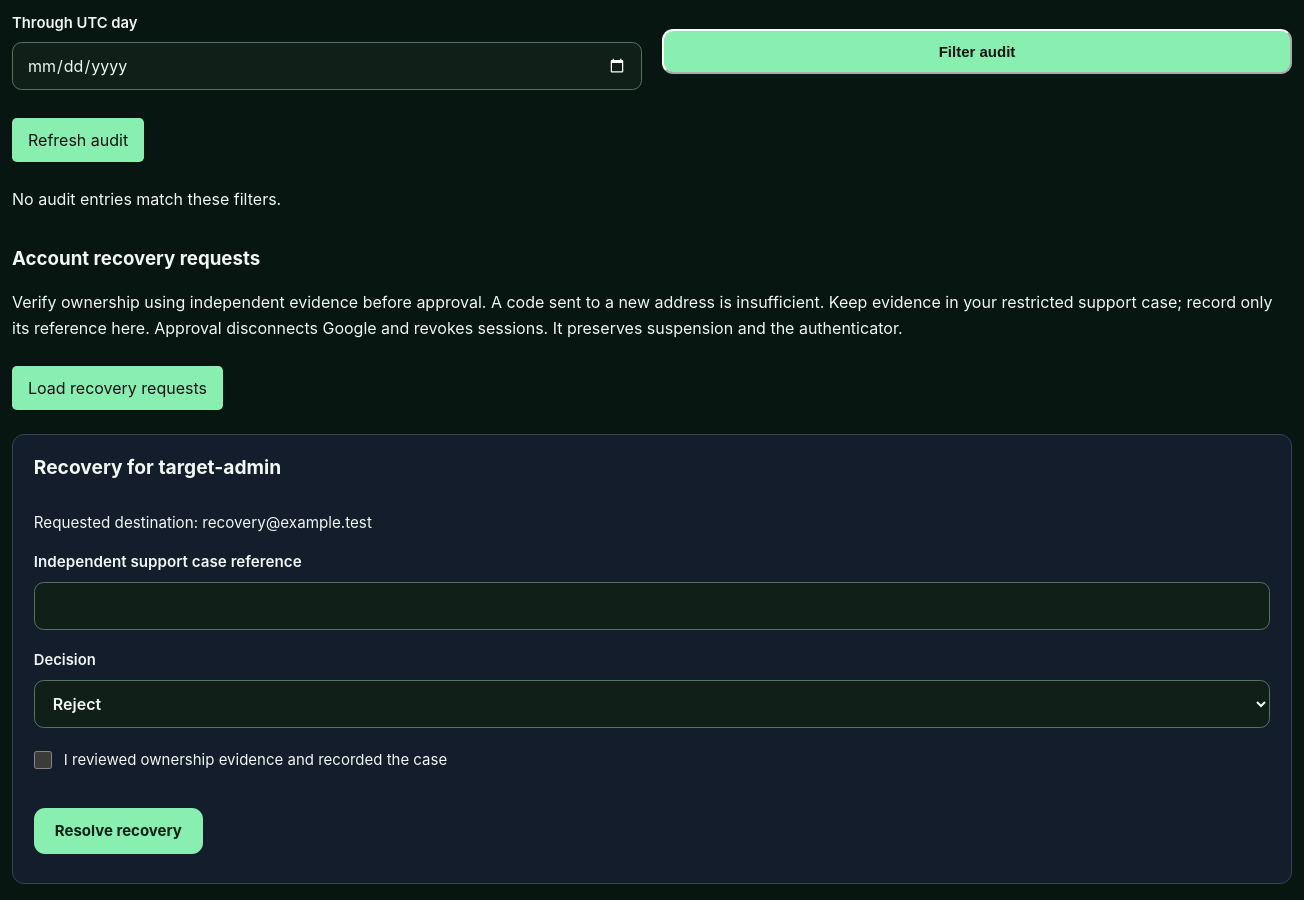
returns resolved recovery focus to its queue with persistent success when reload is empty
(page scrolled)
Expected: the text "Requested destination: recovery@example.test" is shown, x1=34 y1=514 x2=372 y2=532
Type "case-fixture" into the field labelled "Independent support case reference" at (652,606), box x1=34 y1=582 x2=1270 y2=630
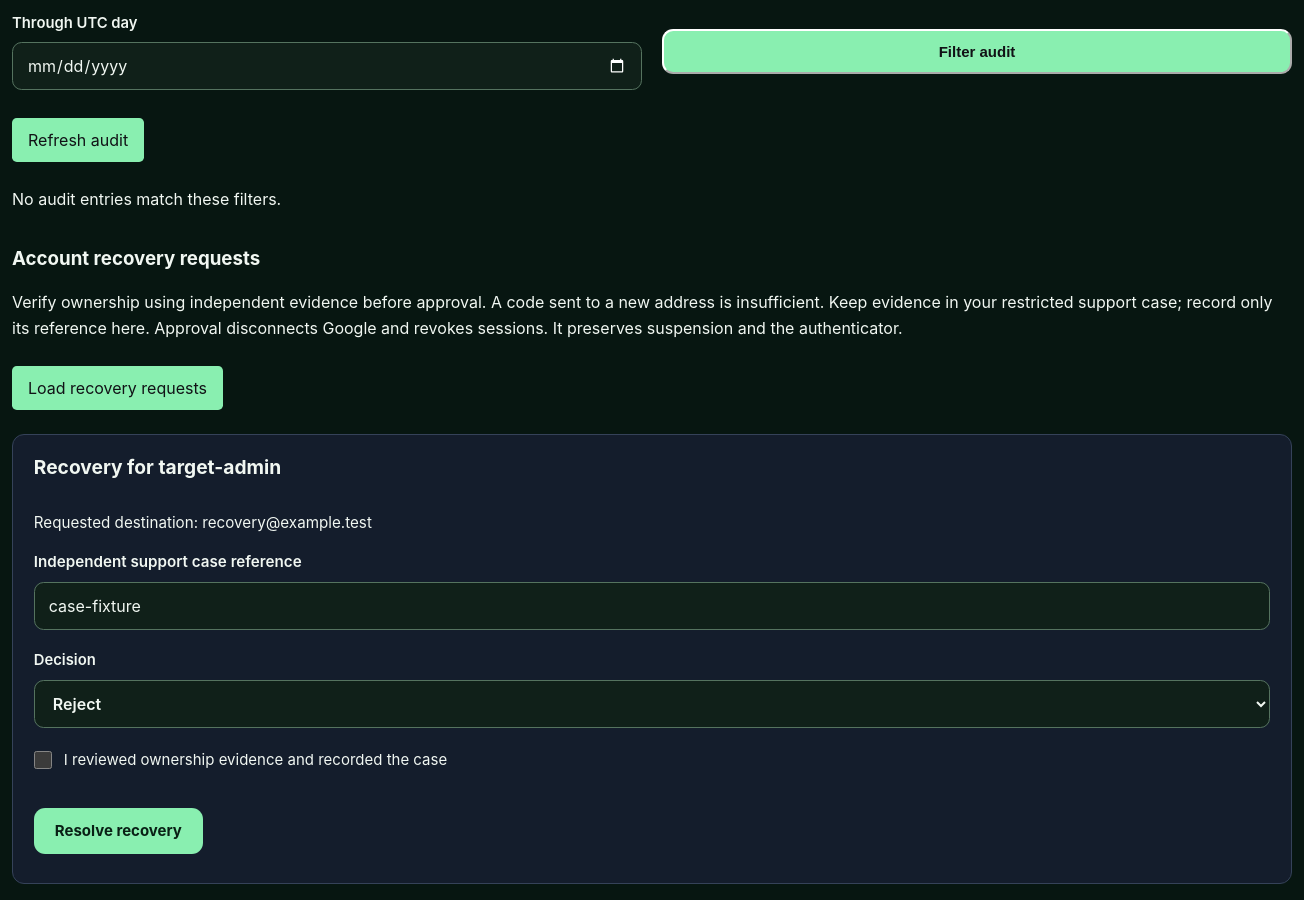
Click the checkbox at (43,760), box x1=34 y1=751 x2=52 y2=769
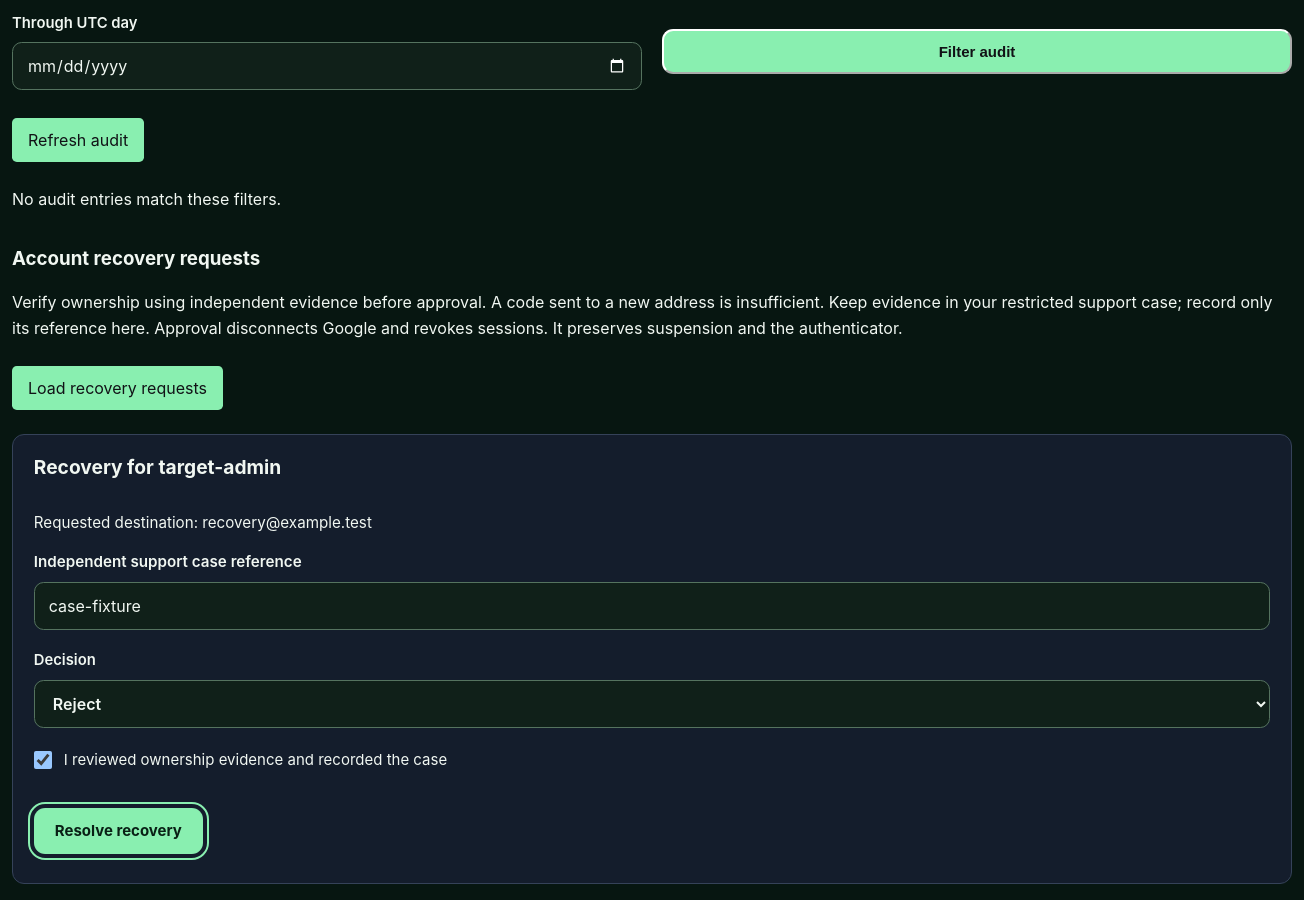
Submit the form named "Resolve recovery", box x1=12 y1=434 x2=1292 y2=884
(page scrolled)
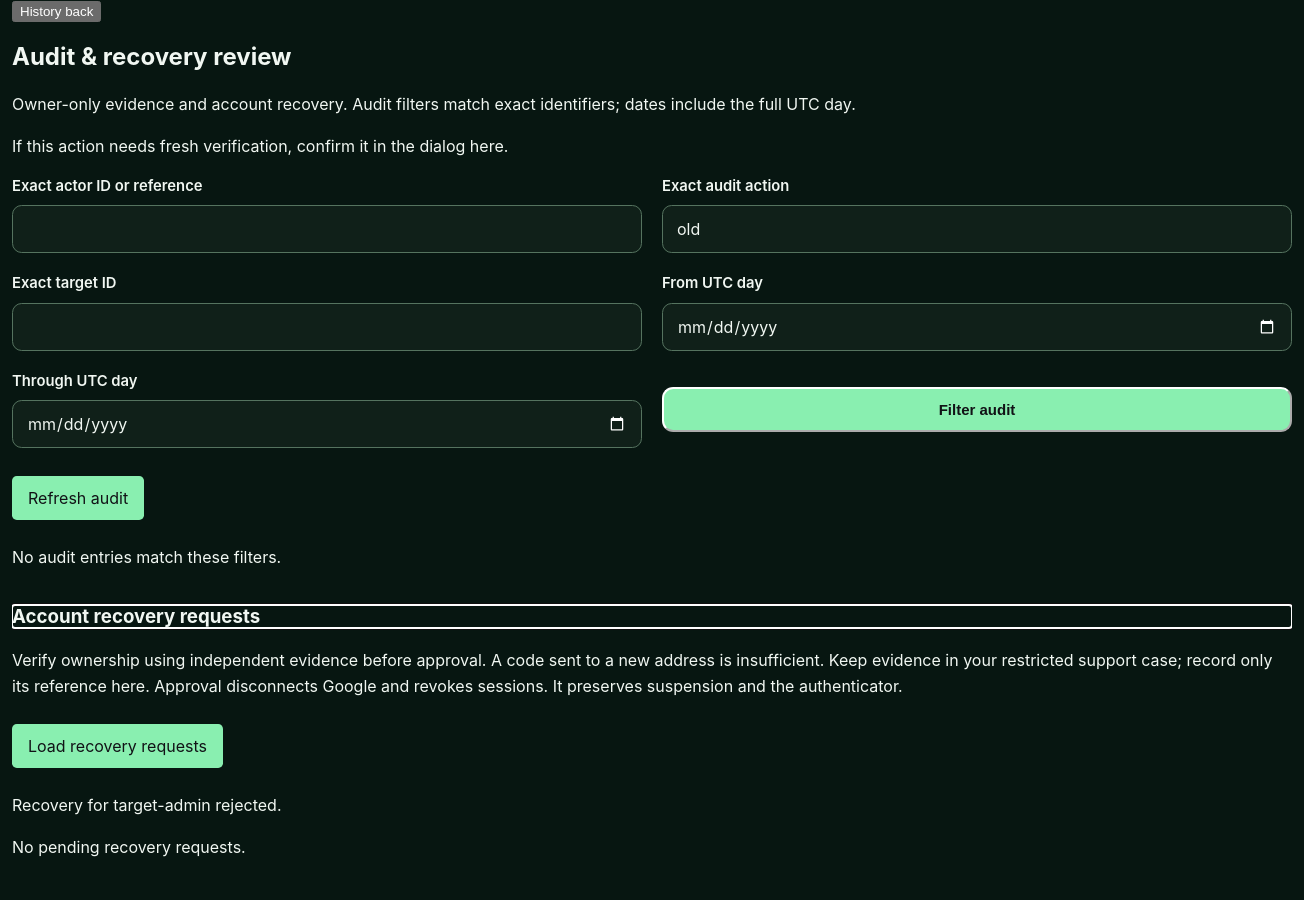
Expected: the text "Requested destination: recovery@example.test" is gone
Expected: the button "Resolve recovery" is gone
